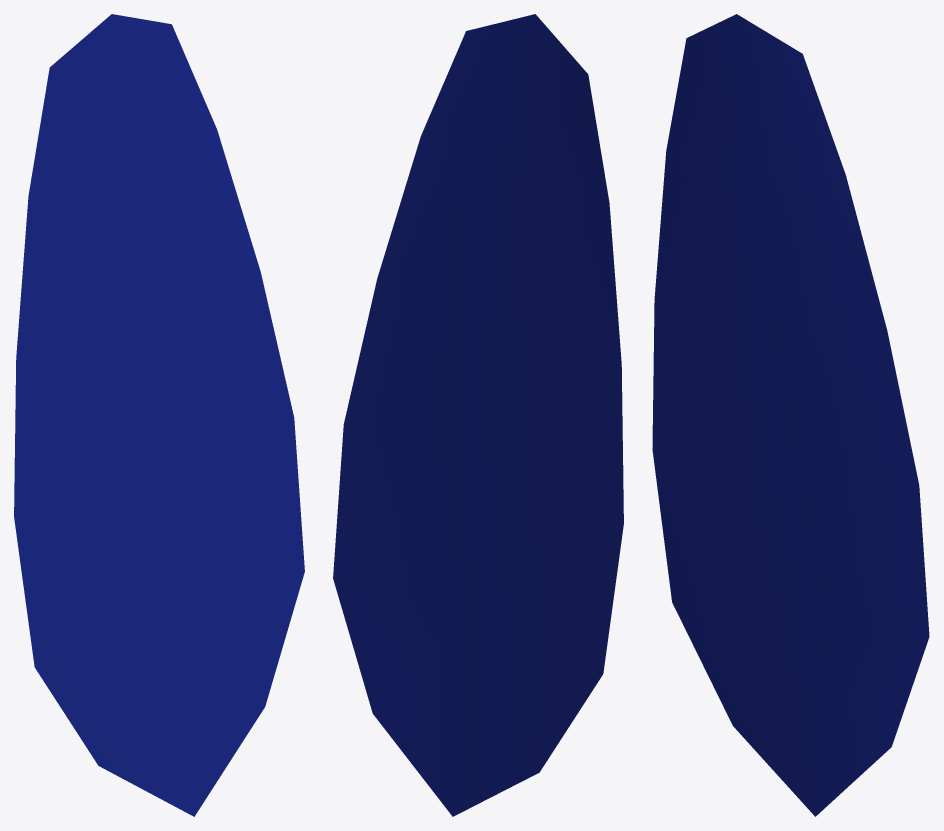
File: lovebird_feather_flight_secondary_007.001.obj
The picture shows the model from 3 angles, left to right: view 1: azimuth 30°, elevation 25°; view 2: azimuth 150°, elevation 25°; view 3: azimuth 330°, elevation 25°; orthographic projection. The views are drawn at different scales.
Visible parts, largest first — view 1: feather_flight_secondary_007.001; view 2: feather_flight_secondary_007.001; view 3: feather_flight_secondary_007.001.
Boxes of the visible parts, x1=… form: feather_flight_secondary_007.001: x1=14, y1=14, x2=304, y2=816; feather_flight_secondary_007.001: x1=333, y1=14, x2=623, y2=816; feather_flight_secondary_007.001: x1=652, y1=14, x2=929, y2=816.
Bounding box in the file's own units: 0.00579 × 0.0156 × 0.00016.
